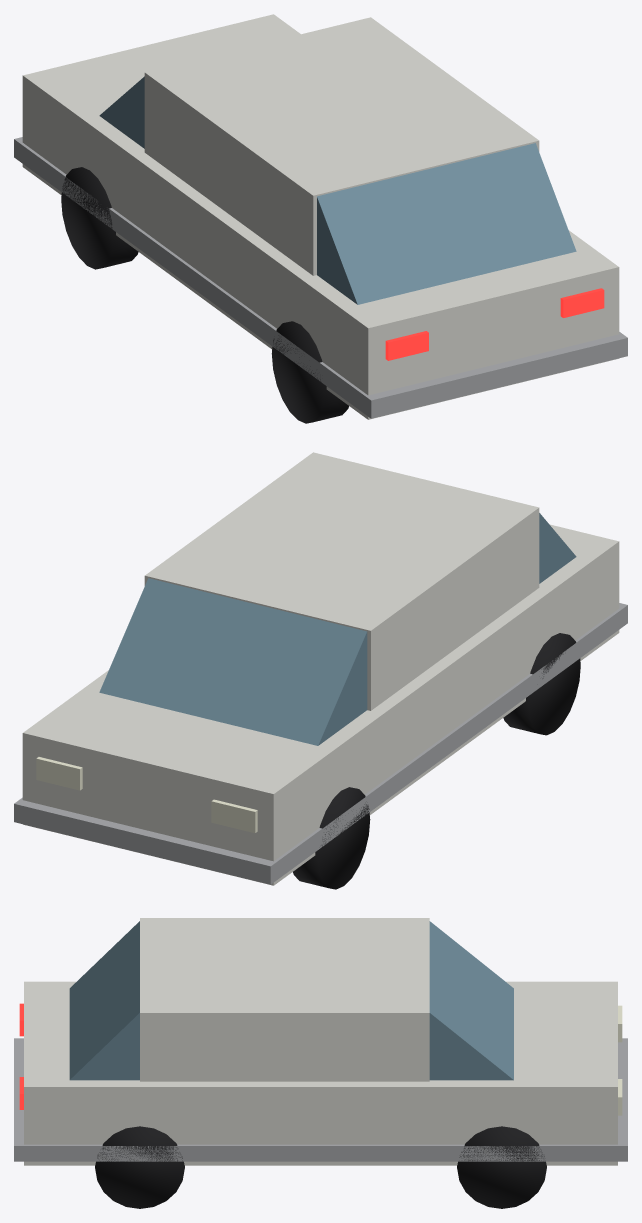
The model's file is Car1.fbx.
The picture shows the model from 3 angles, top to bottom: view 1: azimuth 30°, elevation 25°; view 2: azimuth 150°, elevation 25°; view 3: azimuth 270°, elevation 25°; orthographic projection. The views are drawn at different scales.
Parts seen in each view (by area): view 1: Body, Cabin, RearScreen, Bumpers, Wheel-10, Wheel-11, Windscreen, Taillamp1, Taillamp-1; view 2: Body, Cabin, Windscreen, Bumpers, Wheel-10, Wheel-11, RearScreen, Headlamp-1, Headlamp1; view 3: Body, Cabin, Bumpers, Windscreen, RearScreen, Wheel10, Wheel11.
Boxes of the visible parts, <box> form: Body: <box>22,14,619,419</box>; Cabin: <box>144,17,539,275</box>; RearScreen: <box>317,143,576,304</box>; Bumpers: <box>14,137,627,418</box>; Wheel-10: <box>61,167,138,269</box>; Wheel-11: <box>271,321,348,423</box>; Windscreen: <box>99,76,144,148</box>; Taillamp1: <box>560,288,604,317</box>; Taillamp-1: <box>385,331,428,360</box>; Body: <box>22,524,619,885</box>; Cabin: <box>144,452,539,710</box>; Windscreen: <box>99,578,367,745</box>; Bumpers: <box>14,603,627,884</box>; Wheel-10: <box>293,787,370,889</box>; Wheel-11: <box>503,633,580,735</box>; RearScreen: <box>539,513,576,583</box>; Headlamp-1: <box>211,799,257,833</box>; Headlamp1: <box>36,757,82,790</box>; Body: <box>24,981,617,1165</box>; Cabin: <box>140,918,429,1081</box>; Bumpers: <box>14,1038,627,1161</box>; Windscreen: <box>429,921,513,1080</box>; RearScreen: <box>69,921,139,1080</box>; Wheel10: <box>457,1126,546,1208</box>; Wheel11: <box>95,1126,184,1208</box>.
Bounding box in the file's own units: 176 × 424 × 144.
